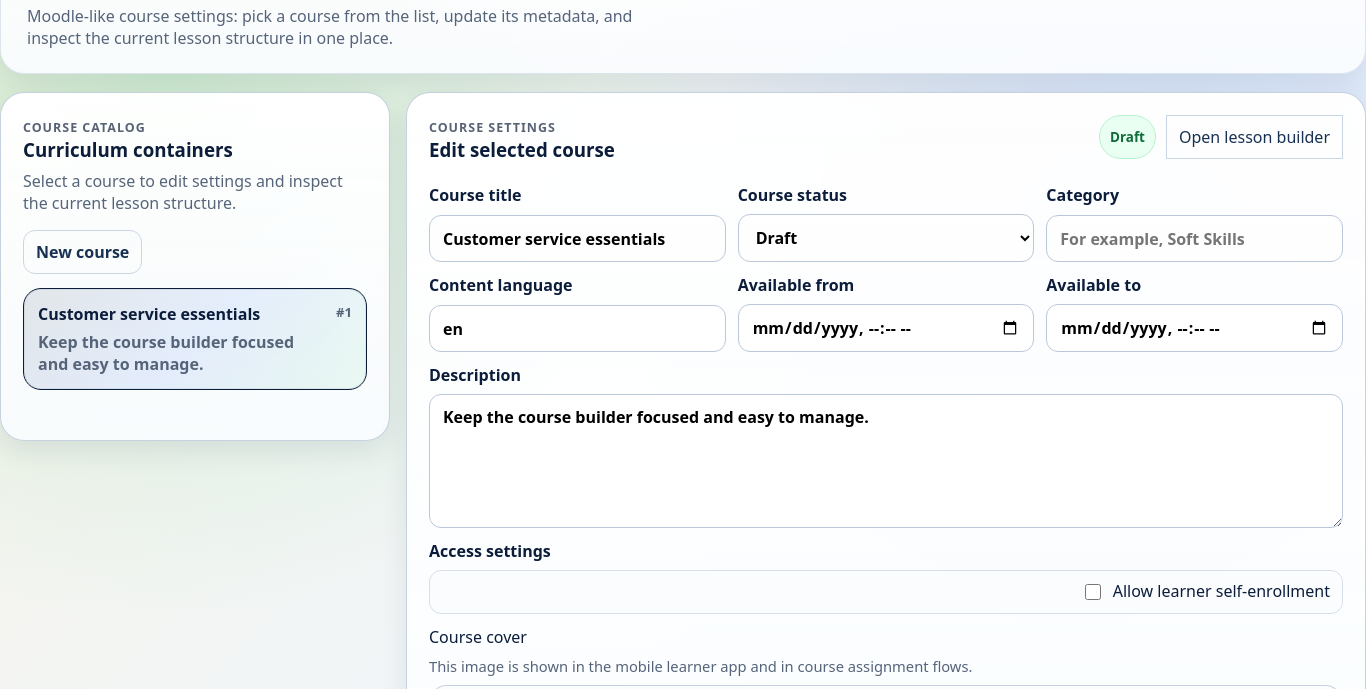
Test: CoursesPage › keeps the new course draft open and submits via create endpoint
The width and height of the screenshot is (1366, 689).
Step 1. Click the button "New course" → (83, 252), box x1=23 y1=230 x2=142 y2=274
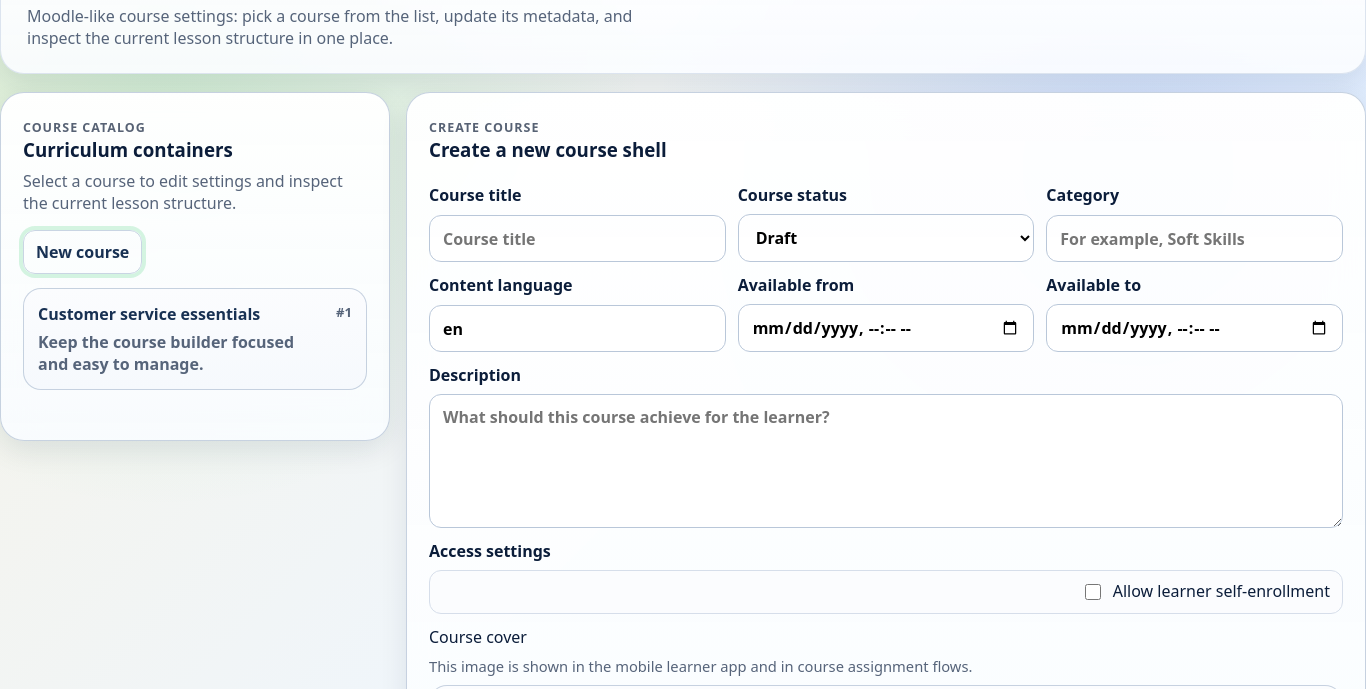
Step 2. Type "New course from test" into the field labelled "Course title" → (577, 238), box x1=429 y1=215 x2=726 y2=262
(page scrolled)
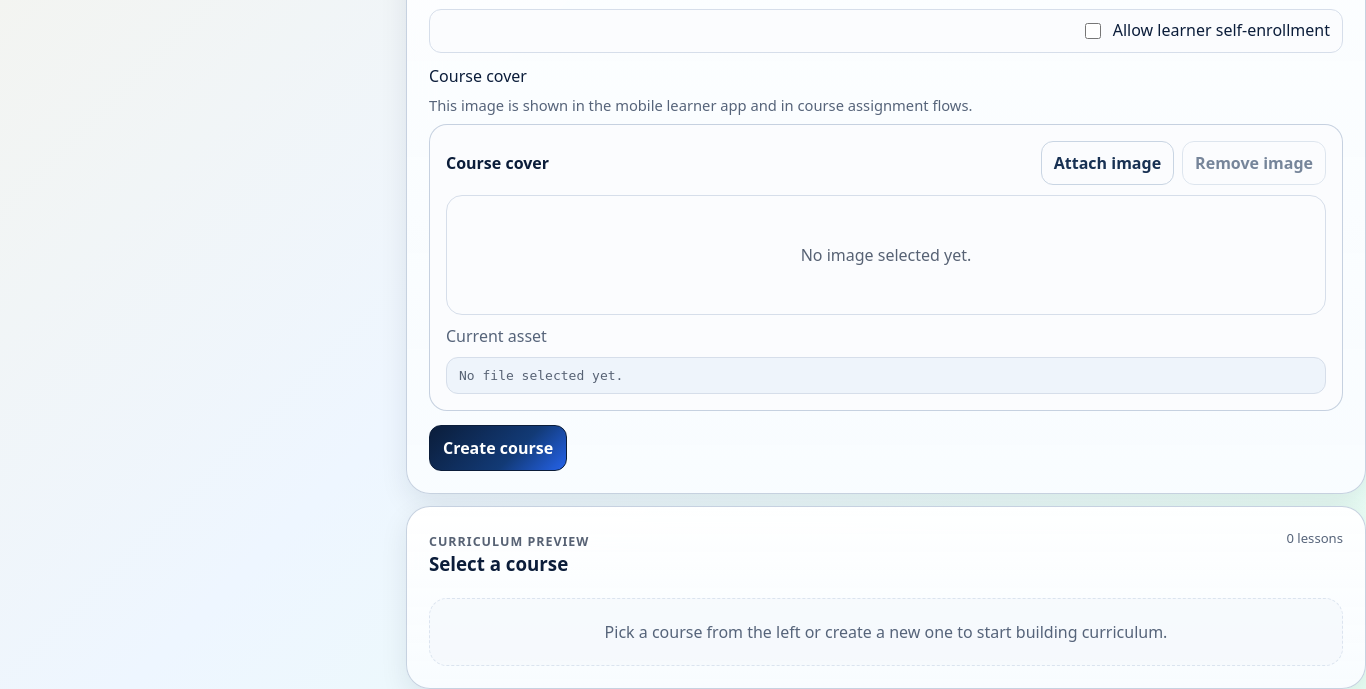
Step 3. Click the button "Create course" → (498, 448), box x1=429 y1=425 x2=567 y2=471
(page scrolled)
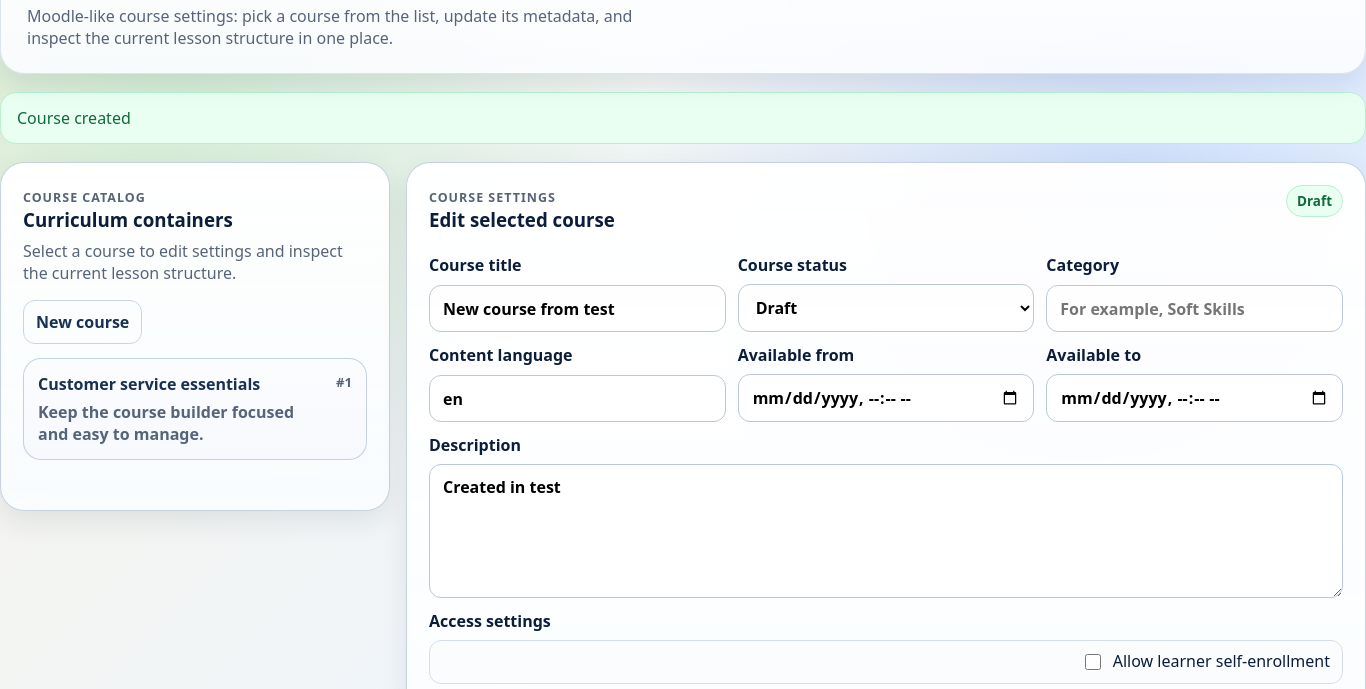
Expected: the text "Course created" is shown, x1=0 y1=92 x2=1365 y2=144
